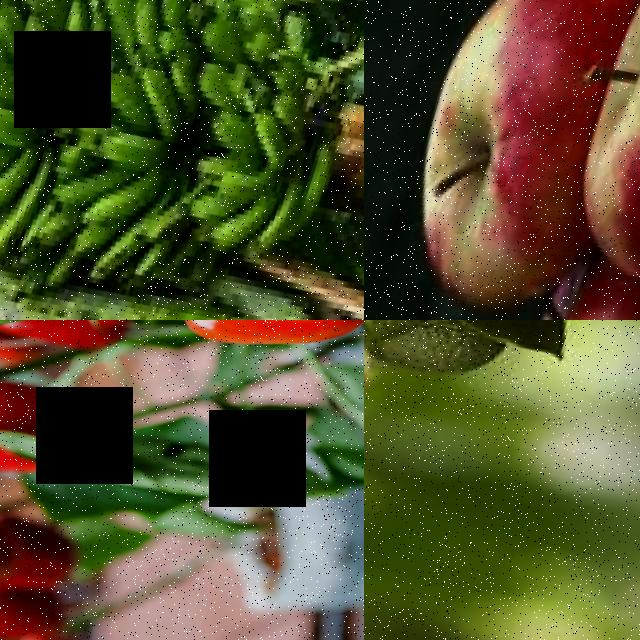apple: (371, 0, 640, 320), (531, 0, 640, 319), (534, 239, 640, 320)
avocado: (364, 320, 516, 414)
bell pepper: (141, 320, 364, 430)
